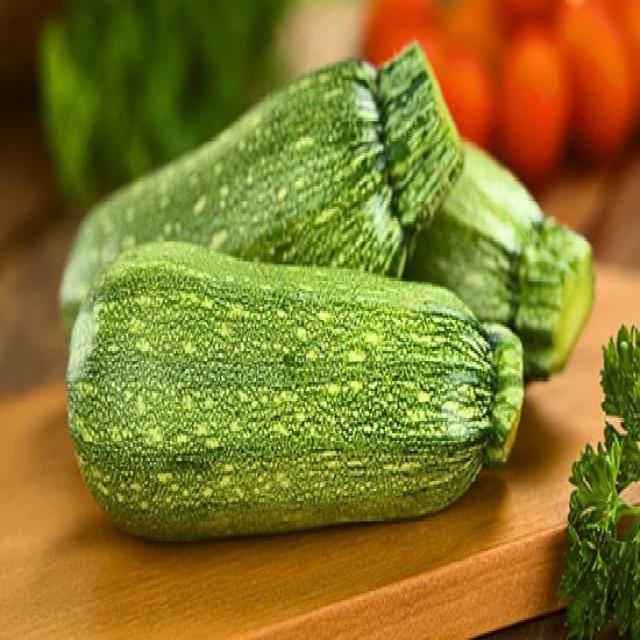Zucchini: (73, 262, 523, 528)
